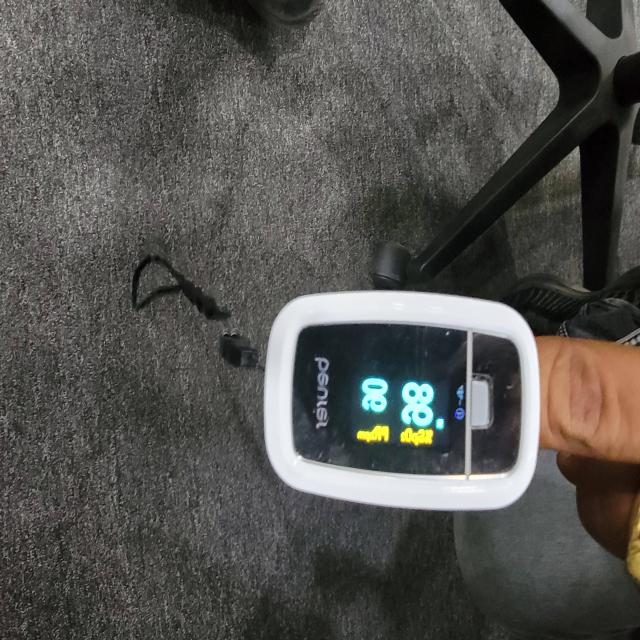spo2: (262, 289, 542, 513)
